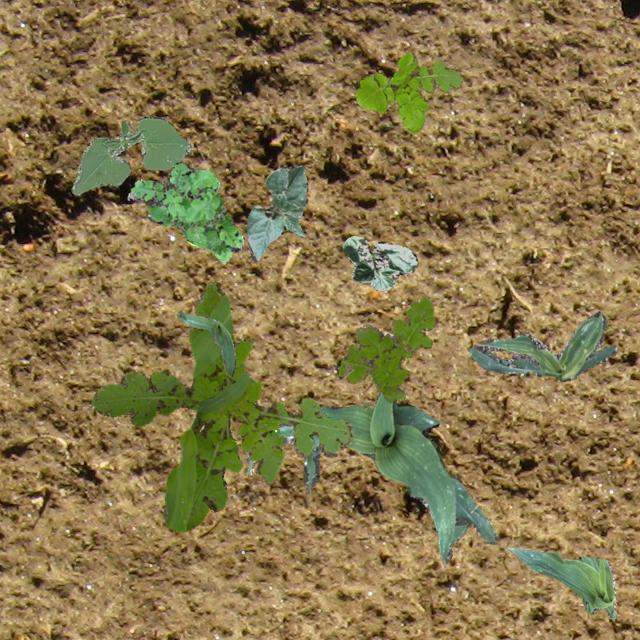crop: (246, 392, 497, 560), (468, 310, 616, 380), (70, 116, 192, 194), (506, 547, 616, 619), (246, 164, 306, 260), (342, 234, 416, 290), (177, 310, 234, 376)
weed: (90, 282, 352, 530), (126, 160, 242, 262), (336, 296, 434, 402), (354, 52, 462, 132)
